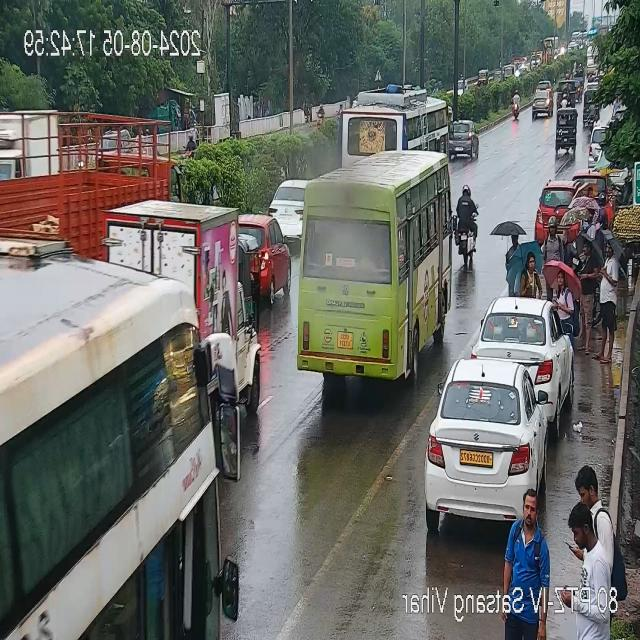2-wheelers: (456, 181, 480, 263), (508, 90, 524, 122), (562, 90, 570, 108)
auto: (551, 107, 579, 153), (556, 80, 580, 108), (477, 68, 488, 86)
bus: (0, 253, 254, 640), (290, 148, 452, 384), (341, 90, 453, 168)
car: (428, 359, 560, 532), (468, 298, 570, 392), (253, 212, 291, 300), (534, 181, 574, 241), (277, 172, 304, 238), (449, 120, 479, 160), (530, 86, 556, 118), (589, 124, 605, 172)
pedestrian: (501, 494, 551, 588), (566, 468, 610, 562), (592, 242, 622, 356), (579, 232, 601, 351), (564, 525, 600, 591), (552, 268, 576, 338), (519, 256, 539, 296), (504, 231, 518, 285), (546, 210, 560, 262), (584, 86, 600, 120), (600, 188, 616, 218)
truck: (0, 108, 185, 260), (192, 208, 256, 412)
